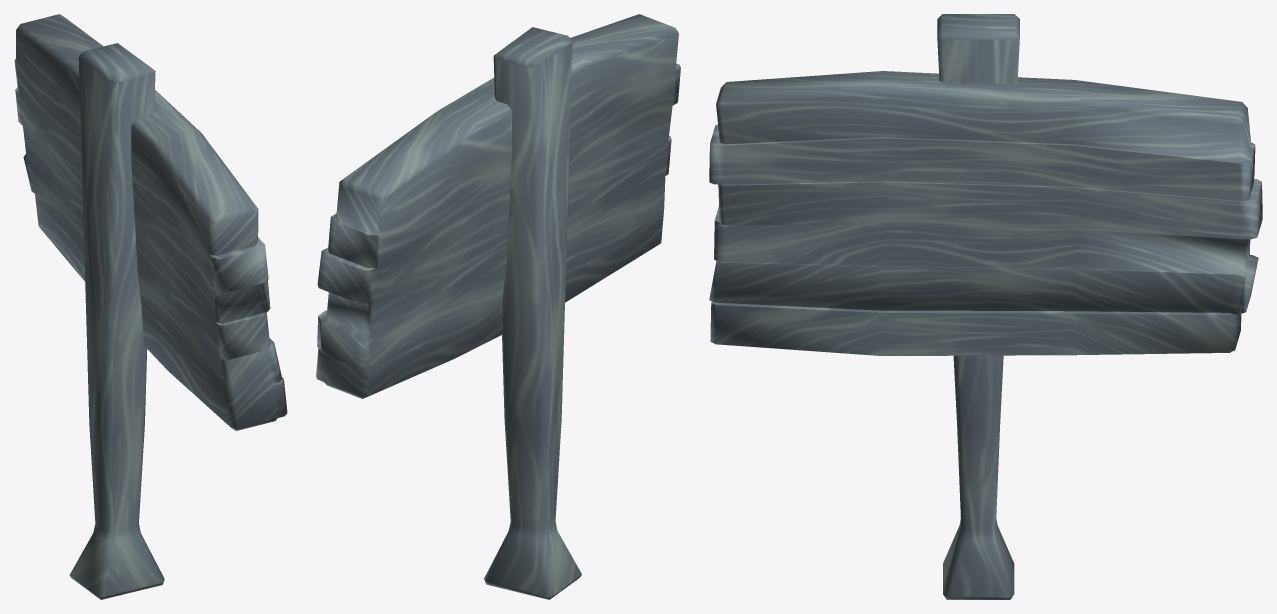
The model's file is BlankSign.fbx.
3 renders of one model, left to right at view 1: azimuth 30°, elevation 25°; view 2: azimuth 150°, elevation 25°; view 3: azimuth 270°, elevation 25°, orthographic. The views are drawn at different scales.
Parts seen in each view (by area): view 1: Cube; view 2: Cube; view 3: Cube.
Part boxes in pixels (bbox=[...]): Cube: bbox=[14, 14, 287, 599]; Cube: bbox=[316, 14, 680, 599]; Cube: bbox=[709, 14, 1262, 599].
Bounding box in the file's own units: 0.253 × 0.9837 × 0.8802.
